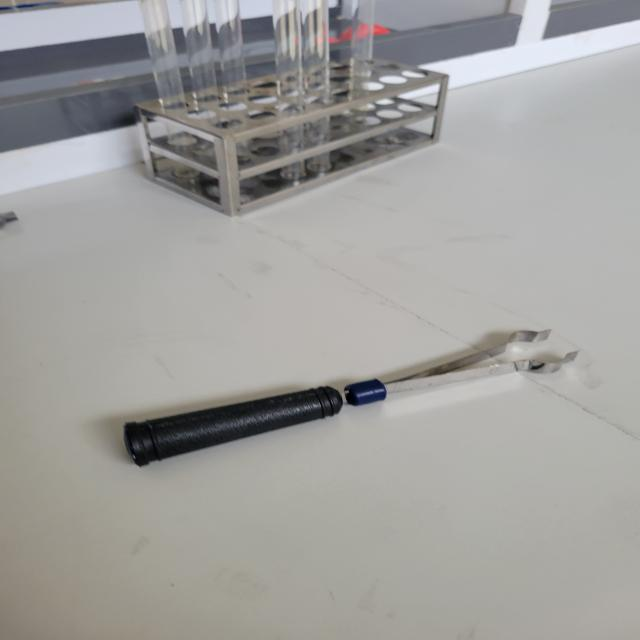TestTube_Holder: (88, 292, 600, 494)
